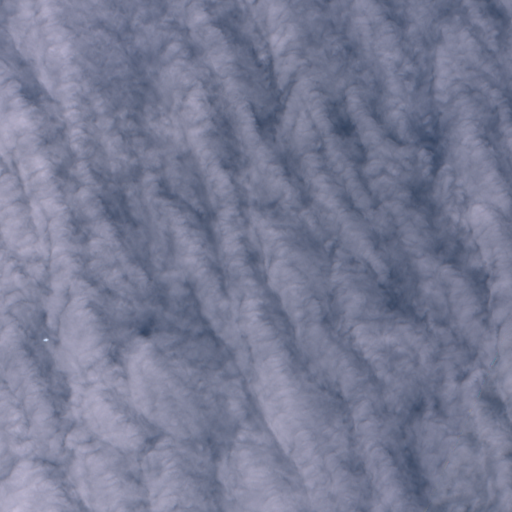Iceberg: (43, 338, 48, 341)
